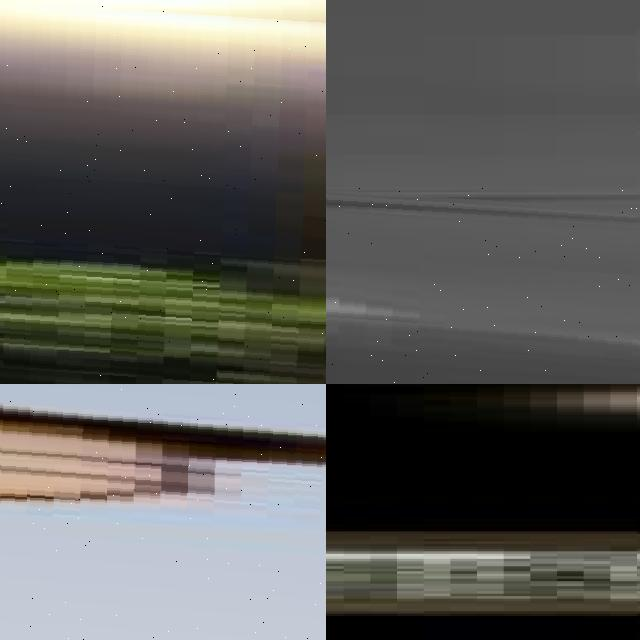street light: (0, 0, 326, 384), (0, 384, 326, 640), (326, 187, 640, 384)
